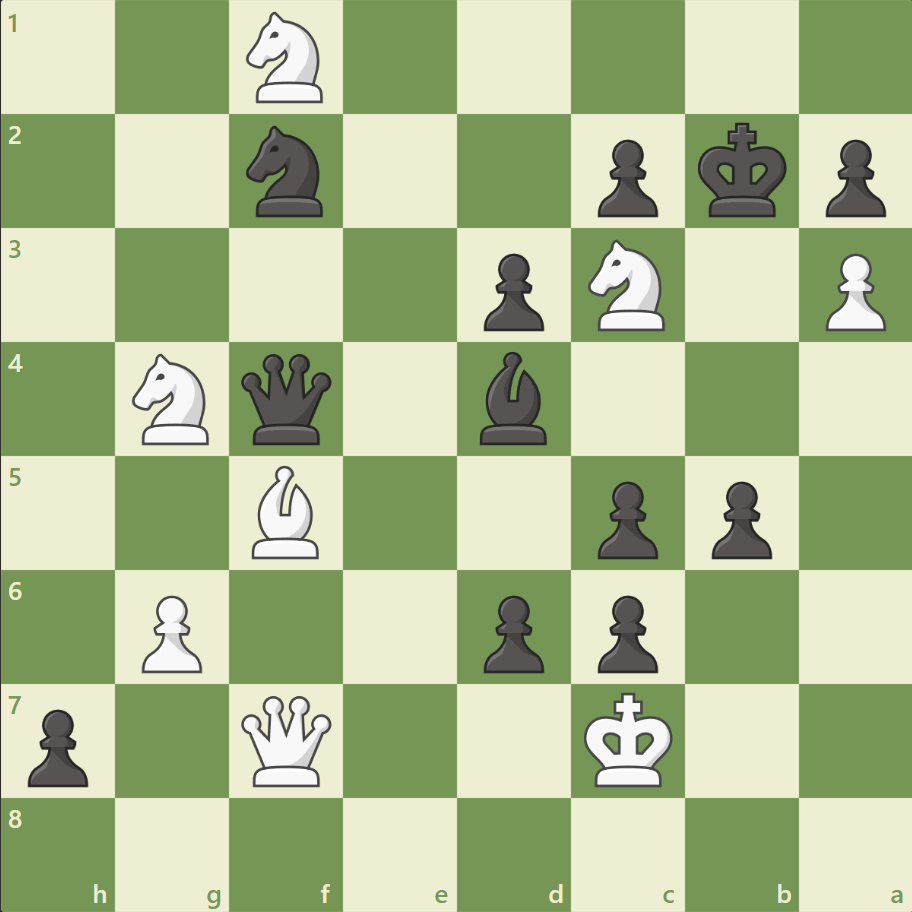B: (244, 460, 328, 563)
K: (579, 685, 679, 793)
N: (124, 348, 222, 450), (579, 234, 676, 337), (238, 7, 335, 110)
P: (133, 586, 208, 677), (815, 246, 889, 337)
Q: (237, 690, 336, 789)
b: (471, 347, 555, 449)
k: (692, 117, 792, 225)
n: (238, 121, 335, 223)
p: (20, 700, 95, 791), (474, 586, 549, 677), (701, 473, 776, 564), (474, 246, 549, 337), (588, 586, 662, 677), (588, 473, 662, 564), (815, 132, 889, 223), (588, 132, 662, 223)
q: (237, 349, 336, 449)
